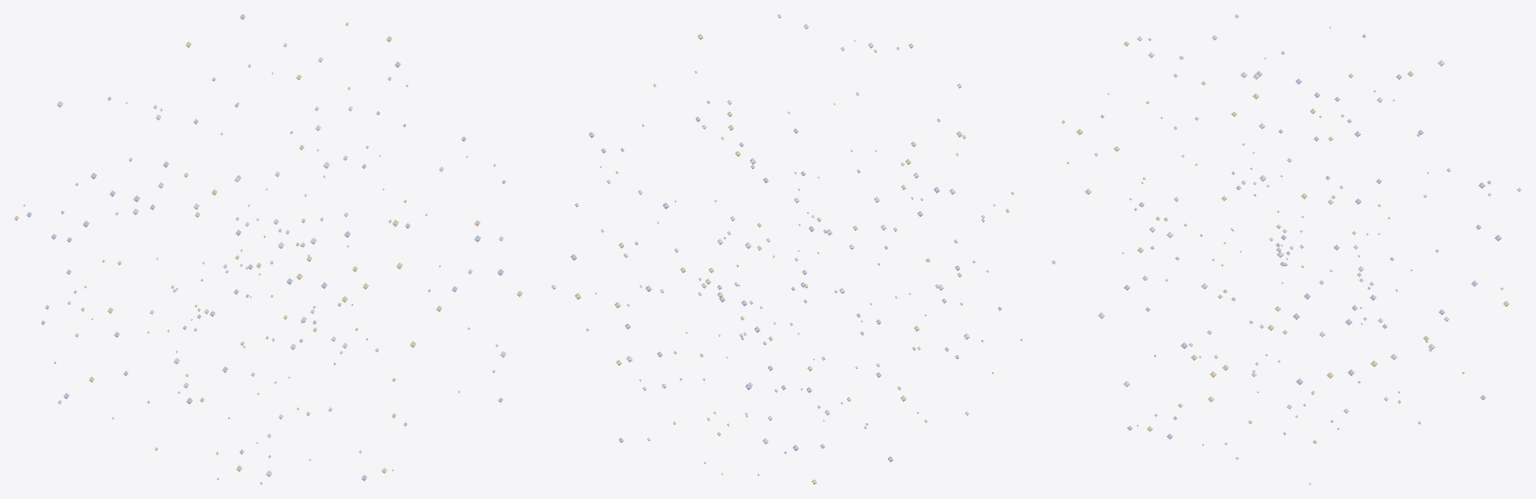
3 renders of one model, left to right at view 1: azimuth 30°, elevation 25°; view 2: azimuth 150°, elevation 25°; view 3: azimuth 270°, elevation 25°, orthographic. The views are drawn at different scales.
Size of the model in its own units: 5.02 by 4.77 by 4.71.
